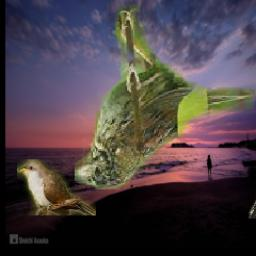Crow: (250, 173, 256, 220)
Cuckoo: (17, 159, 96, 215)
Sparrow: (76, 4, 256, 189)
